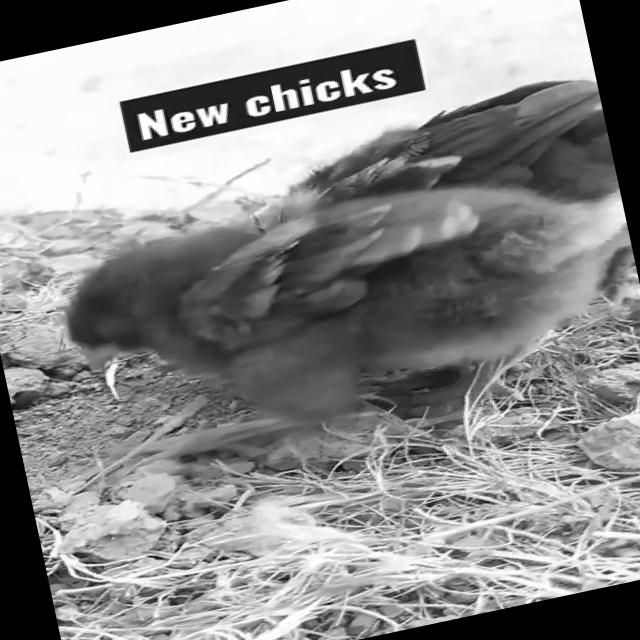stand bath: (36, 97, 640, 549)
